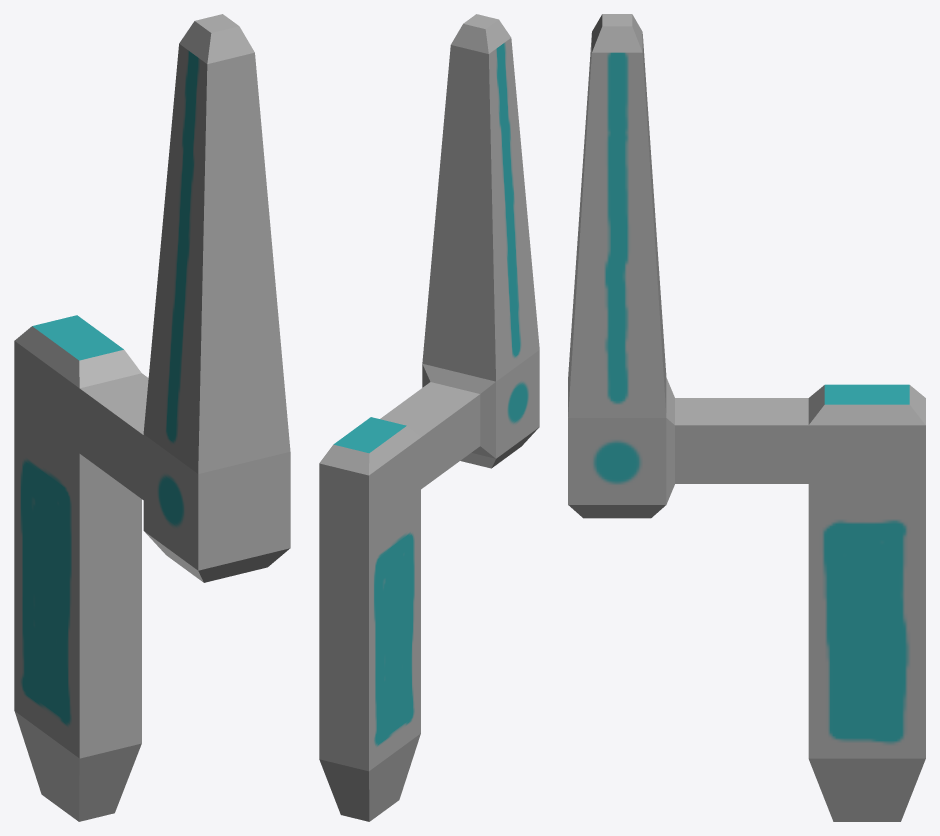
File: weapon3.obj
3 views of the same model, side by side, from view 1: azimuth 30°, elevation 25°; view 2: azimuth 150°, elevation 25°; view 3: azimuth 270°, elevation 25° (orthographic). The views are drawn at different scales.
Visible parts, largest first — view 1: ArmWeapon3; view 2: ArmWeapon3; view 3: ArmWeapon3.
Part boxes in pixels (left/top/right/bottom): ArmWeapon3: left=14, top=14, right=290, bottom=821; ArmWeapon3: left=319, top=14, right=539, bottom=821; ArmWeapon3: left=568, top=14, right=925, bottom=821.
Size of the model in its own units: 0.967 by 8.83 by 3.61.
1 material, 1 textured.
